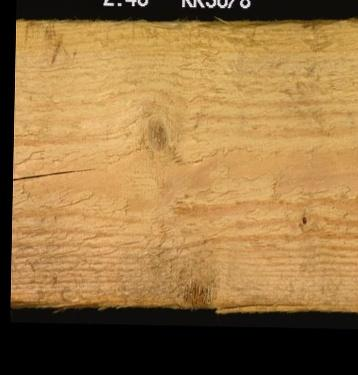edge_knot: (180, 267, 223, 312)
small_knot: (297, 211, 316, 225)
sound_knot: (140, 111, 184, 159)
split: (12, 162, 100, 184), (228, 294, 312, 309)
